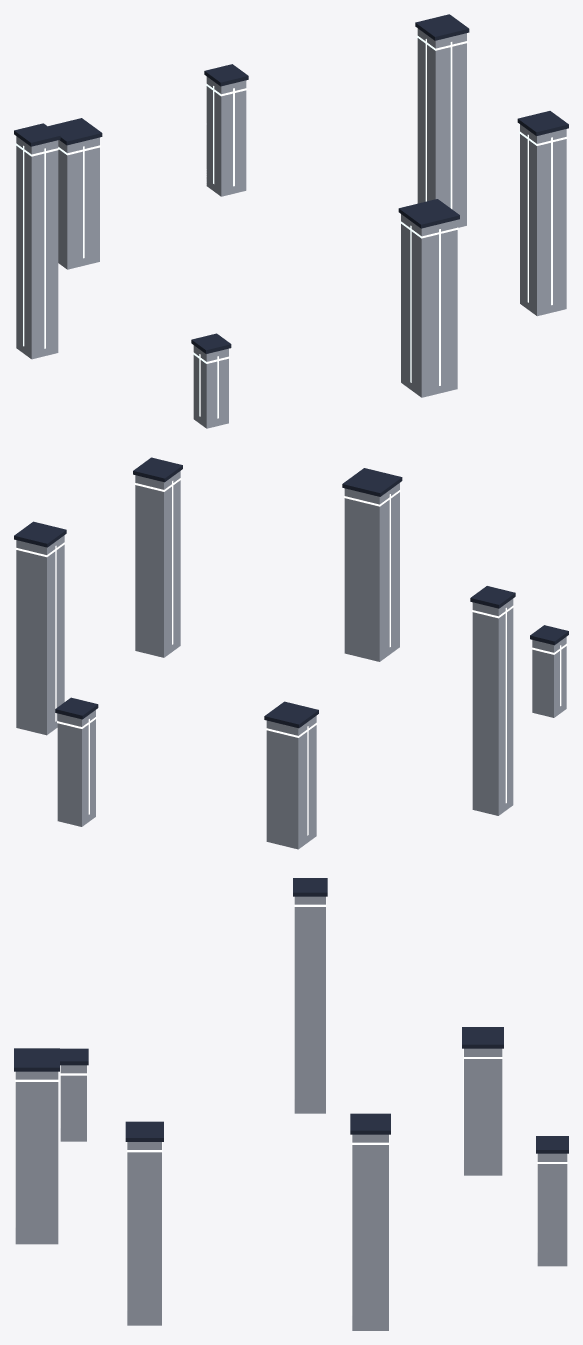
3 renders of one model, top to bottom at view 1: azimuth 30°, elevation 25°; view 2: azimuth 150°, elevation 25°; view 3: azimuth 270°, elevation 25°, orthographic. The views are drawn at different scales.
Visible parts, largest first — view 1: nexo_spires_frontera.lod1; view 2: nexo_spires_frontera.lod1; view 3: nexo_spires_frontera.lod1.
Boxes of the visible parts, x1,y1,x2,y2 form: nexo_spires_frontera.lod1: (14,14,568,428); nexo_spires_frontera.lod1: (14,457,568,849); nexo_spires_frontera.lod1: (14,878,568,1330).
Bounding box in the file's own units: 25.19 × 11.22 × 25.46.
